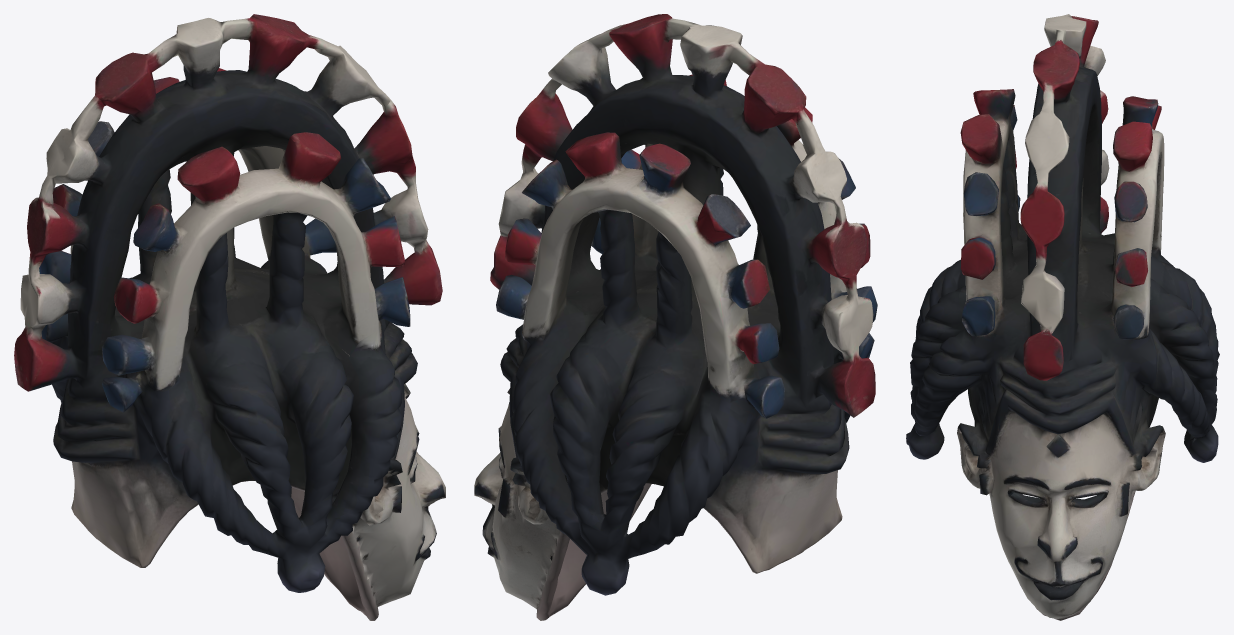
Rendered from igbo-ukwu-castings-3d.glb.
The picture shows the model from 3 angles, left to right: view 1: azimuth 30°, elevation 25°; view 2: azimuth 150°, elevation 25°; view 3: azimuth 270°, elevation 25°; orthographic projection. The views are drawn at different scales.
Visible parts, largest first — view 1: tripo_node_4317aa36-0d6d-477f-a4c8-9dc098a54127; view 2: tripo_node_4317aa36-0d6d-477f-a4c8-9dc098a54127; view 3: tripo_node_4317aa36-0d6d-477f-a4c8-9dc098a54127.
Part boxes in pixels (bbox=[...]): tripo_node_4317aa36-0d6d-477f-a4c8-9dc098a54127: bbox=[14, 14, 445, 620]; tripo_node_4317aa36-0d6d-477f-a4c8-9dc098a54127: bbox=[474, 14, 877, 620]; tripo_node_4317aa36-0d6d-477f-a4c8-9dc098a54127: bbox=[906, 14, 1219, 620].
Bounding box in the file's own units: 0.676 × 1 × 0.5355.
1 material, 1 textured.
